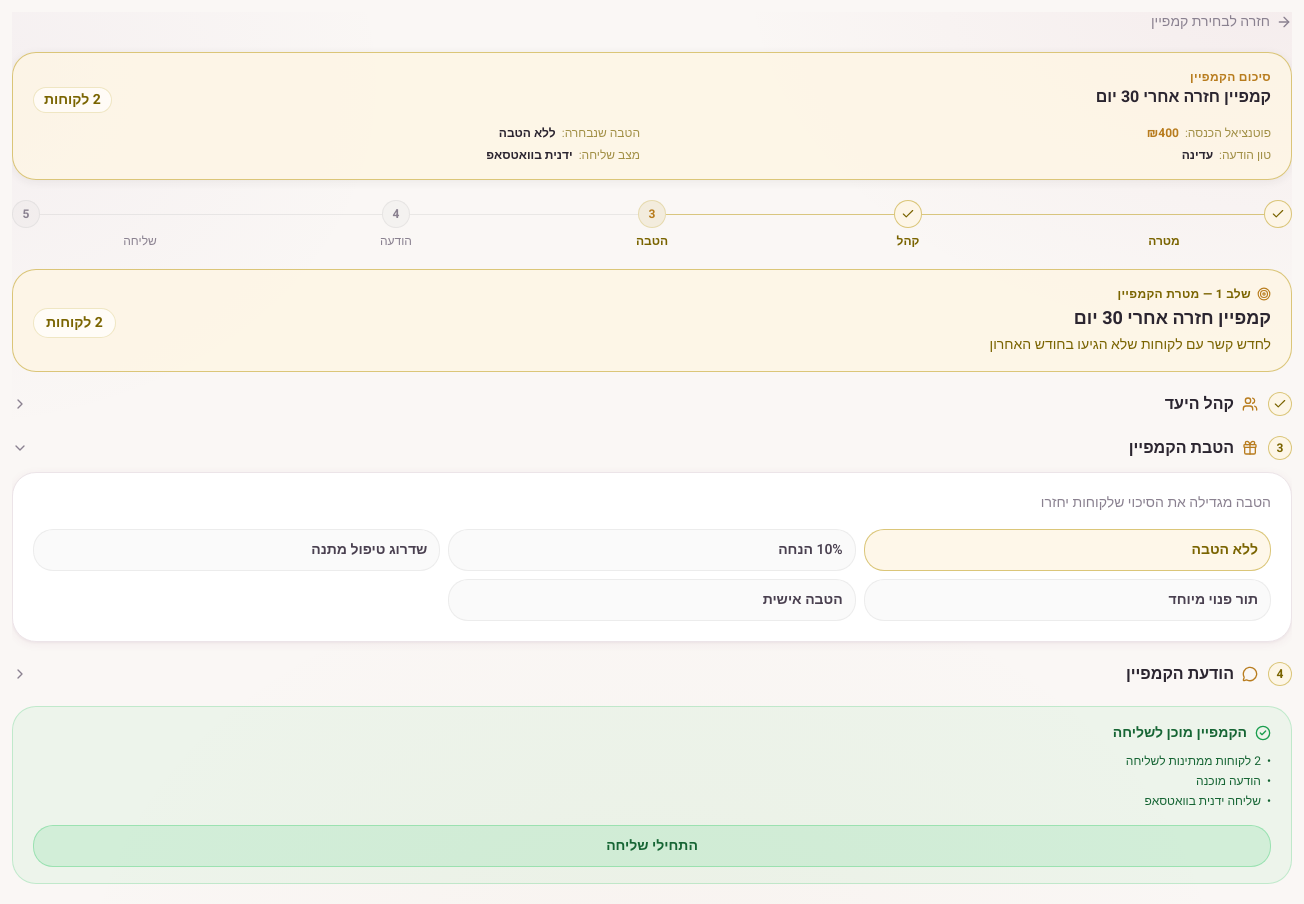
Test: CampaignView — defaultCampaignType deep link › the back button returns to the campaign selector
What coordinates should you click on to do the following:
click the button "חזרה לבחירת קמפיין"
I would click on:
 (1221, 22)
Its box is [1151,12,1292,32].
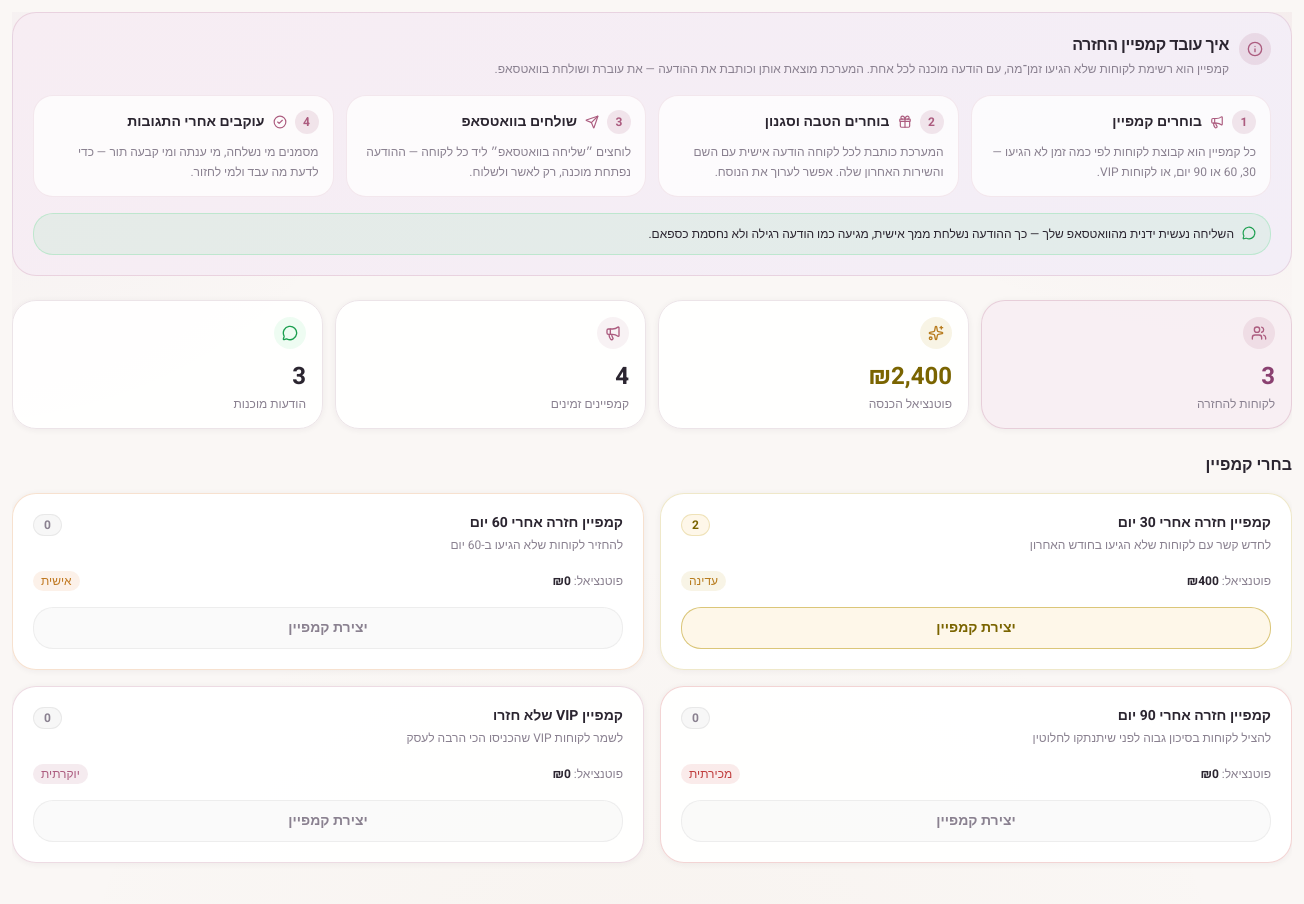
Expected: the heading "בחרי קמפיין" is shown, [1206,453,1292,477]
